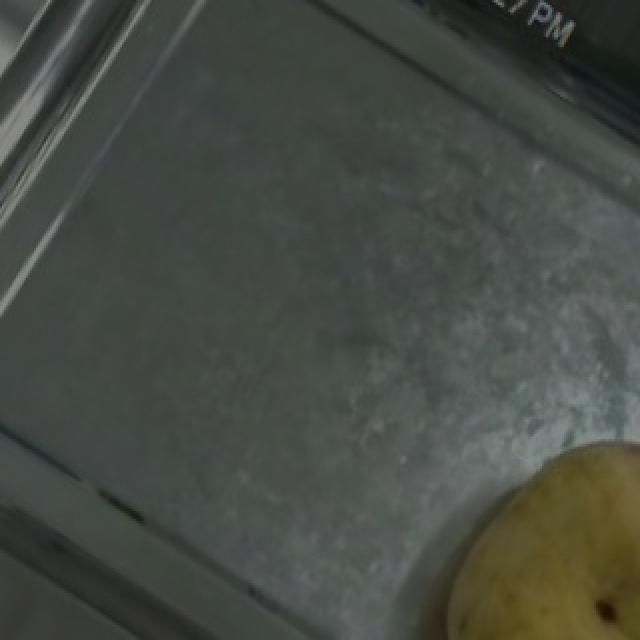Fruit: (412, 412, 640, 640)
